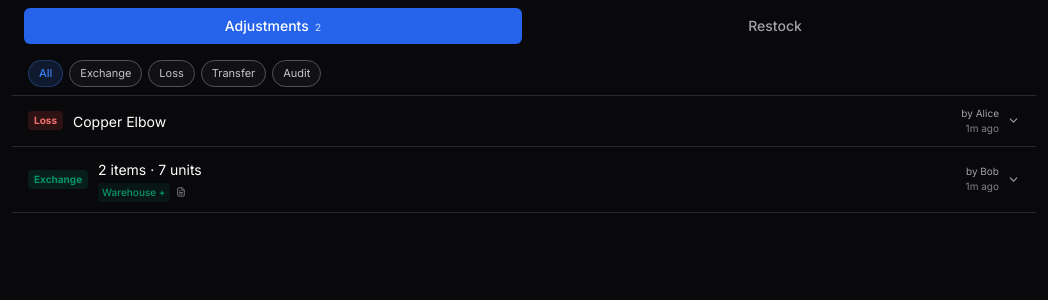
Scenario: StockHistorySection › collapses row on second click
The image size is (1048, 300).
Click the text "Copper Elbow" at point(120, 121), box [73,112,166,130]
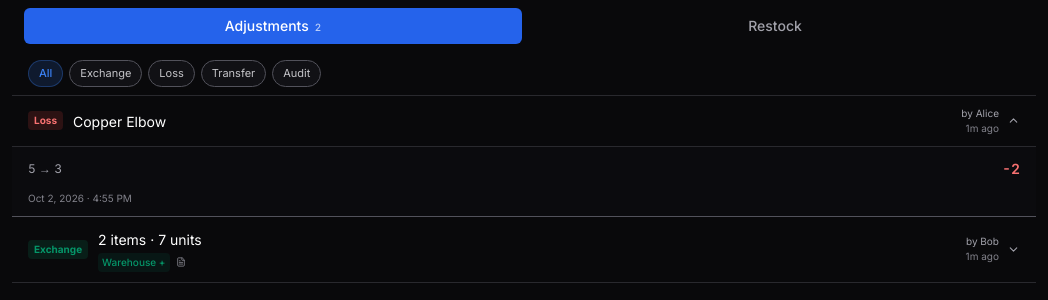
expect the text "5 → 3" is shown: met, box [28,160,62,176]
Click the text "Copper Elbow" at point(120, 121), box [73,112,166,130]
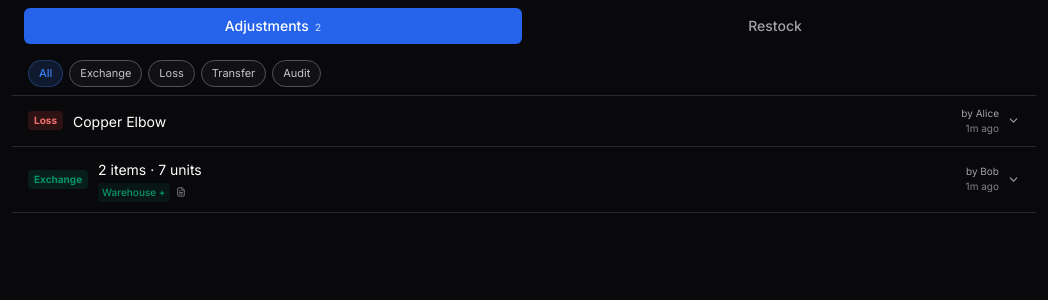
expect the text "5 → 3" is gone: met
